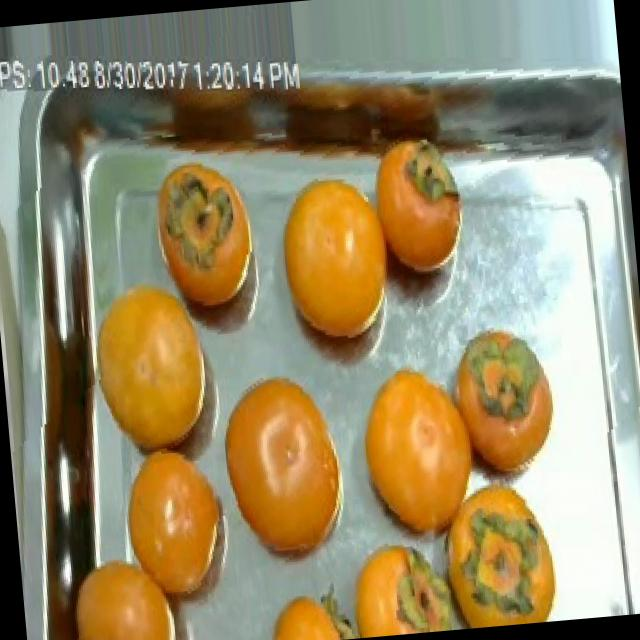Fruit: (212, 352, 360, 580), (260, 152, 408, 371), (346, 349, 494, 558), (80, 260, 216, 477), (440, 312, 570, 497), (137, 147, 266, 327), (452, 462, 571, 628), (62, 536, 192, 640), (334, 527, 440, 639), (253, 580, 362, 640)
